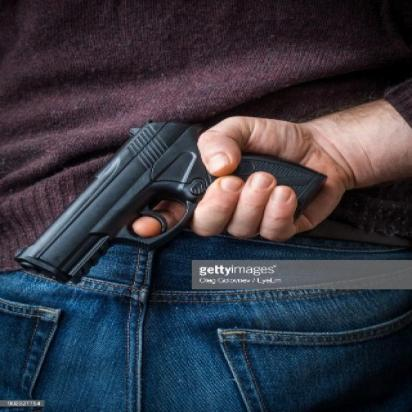Gun: (9, 117, 327, 283)
